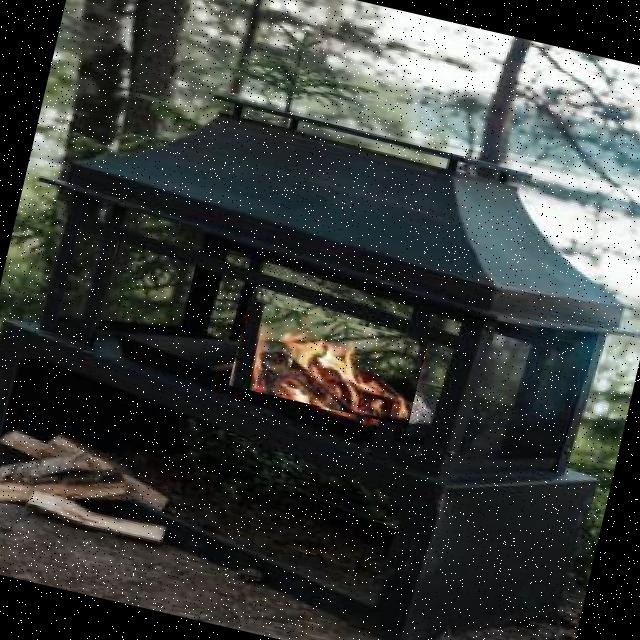fire: (228, 299, 427, 426)
